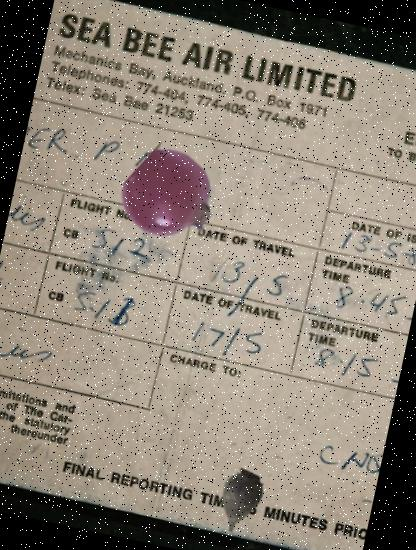Beetroot: (198, 462, 278, 541)
Redcurrant: (116, 145, 224, 252)
